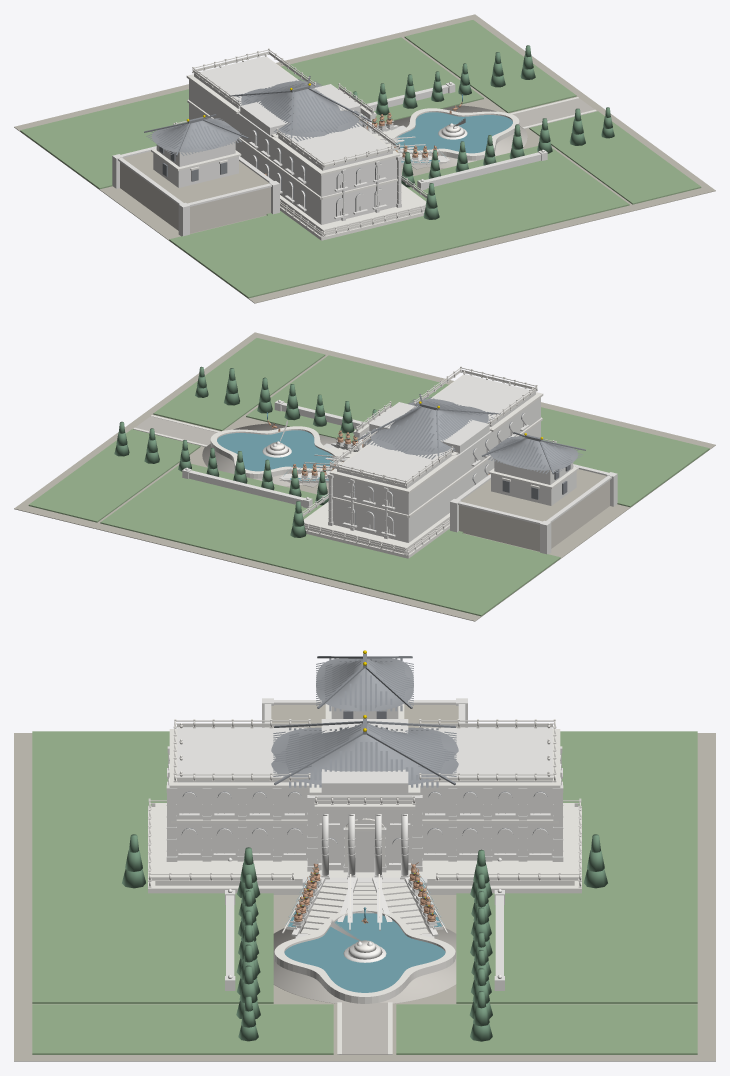
Rendered from haiyantang_high.glb.
3 renders of one model, top to bottom at view 1: azimuth 30°, elevation 25°; view 2: azimuth 150°, elevation 25°; view 3: azimuth 270°, elevation 25°, orthographic. The views are drawn at different scales.
Parts seen in each view (by area): view 1: HY_环境, HY_主楼, HY_蓄水楼, HY_场地, HY_主喷水池, HY_八字台阶; view 2: HY_环境, HY_主楼, HY_蓄水楼, HY_场地, HY_主喷水池, HY_八字台阶; view 3: HY_环境, HY_主楼, HY_场地, HY_主喷水池, HY_蓄水楼, HY_八字台阶, HY_贝壳石雕.
Boxes of the visible parts, x1=… form: HY_环境: x1=20, y1=20, x2=701, y2=298; HY_主楼: x1=173, y1=48, x2=427, y2=240; HY_蓄水楼: x1=112, y1=114, x2=279, y2=236; HY_场地: x1=14, y1=14, x2=715, y2=303; HY_主喷水池: x1=387, y1=108, x2=519, y2=160; HY_八字台阶: x1=372, y1=120, x2=450, y2=165; HY_环境: x1=28, y1=338, x2=709, y2=616; HY_主楼: x1=302, y1=366, x2=556, y2=558; HY_蓄水楼: x1=450, y1=432, x2=617, y2=554; HY_场地: x1=14, y1=332, x2=715, y2=621; HY_主喷水池: x1=210, y1=426, x2=342, y2=478; HY_八字台阶: x1=279, y1=438, x2=357, y2=483; HY_环境: x1=32, y1=731, x2=697, y2=1054; HY_主楼: x1=148, y1=715, x2=581, y2=894; HY_场地: x1=14, y1=733, x2=715, y2=1061; HY_主喷水池: x1=274, y1=908, x2=455, y2=1003; HY_蓄水楼: x1=262, y1=650, x2=467, y2=728; HY_八字台阶: x1=282, y1=874, x2=447, y2=938; HY_贝壳石雕: x1=330, y1=907, x2=386, y2=962.
Size of the model in its own units: 84 by 15.99 by 76.
